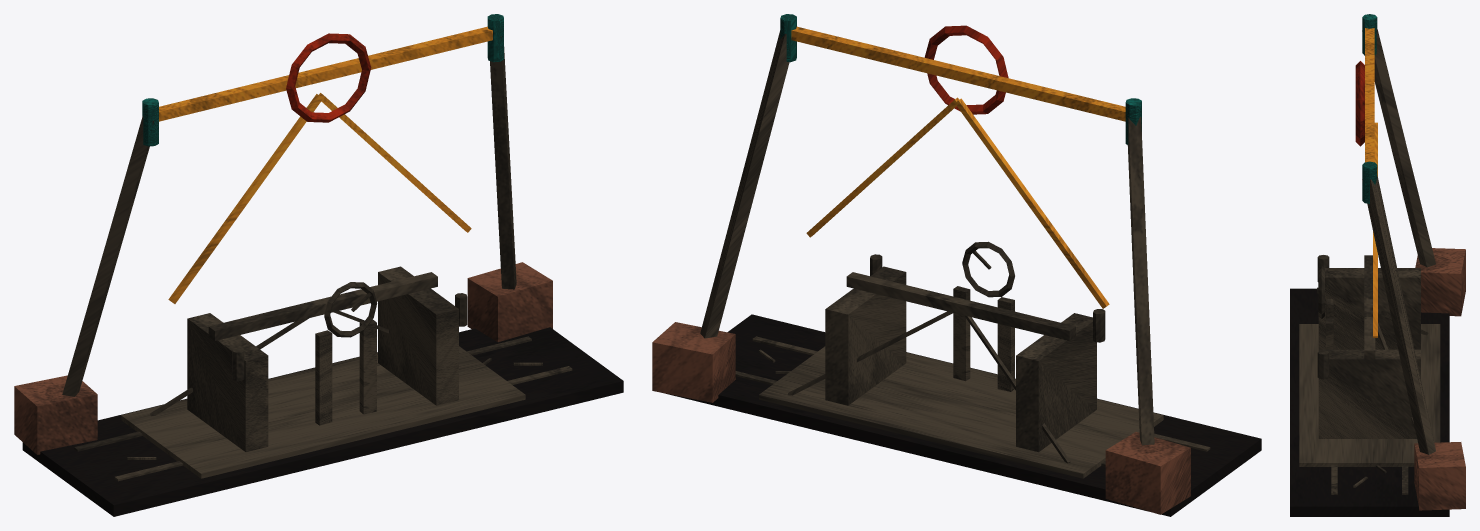
The model's file is north-anchor-gate.glb.
3 renders of one model, left to right at view 1: azimuth 30°, elevation 25°; view 2: azimuth 150°, elevation 25°; view 3: azimuth 270°, elevation 25°, orthographic. The views are drawn at different scales.
Parts seen in each view (by area): view 1: north-anchor-gate; view 2: north-anchor-gate; view 3: north-anchor-gate.
Part boxes in pixels (bbox=[...]): north-anchor-gate: bbox=[14, 14, 623, 516]; north-anchor-gate: bbox=[652, 14, 1261, 516]; north-anchor-gate: bbox=[1290, 14, 1465, 516].
Size of the model in its own units: 11.13 by 8.08 by 3.75.
1 material, 1 textured.
